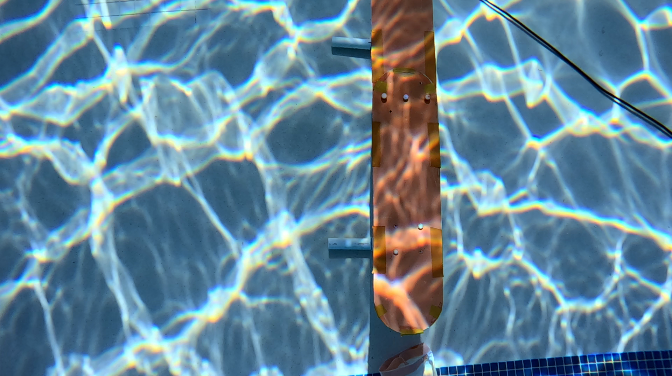pathmarker: (371, 0, 442, 334)
